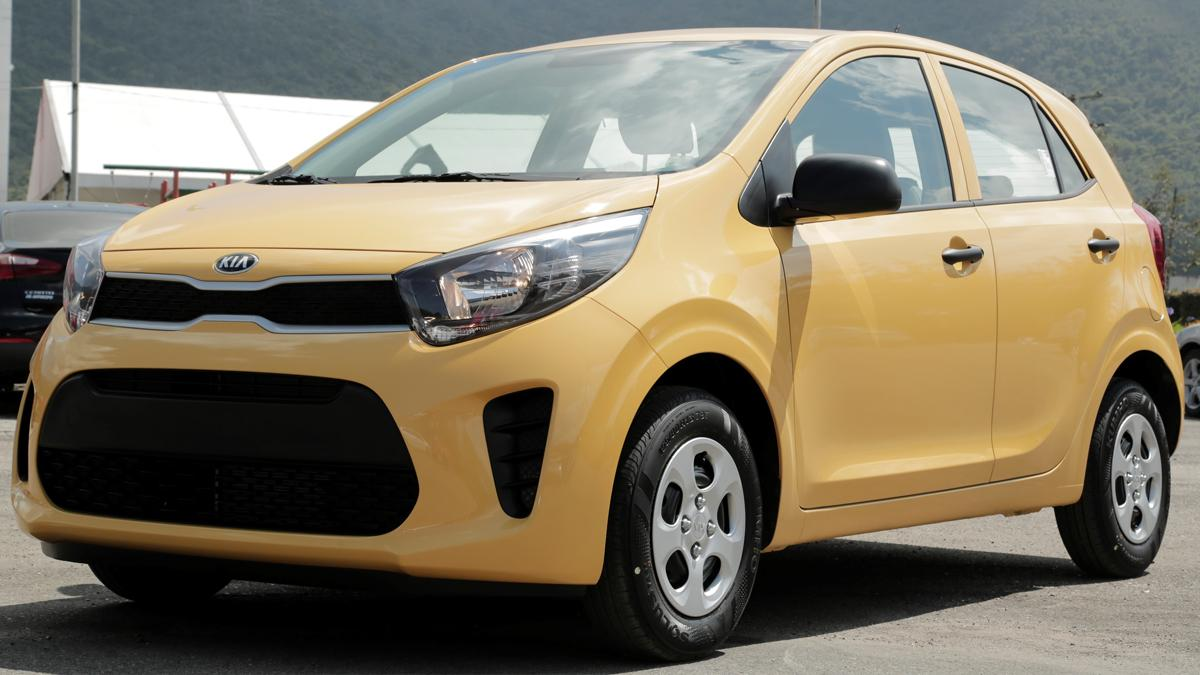taxi: (2, 8, 1200, 675)
